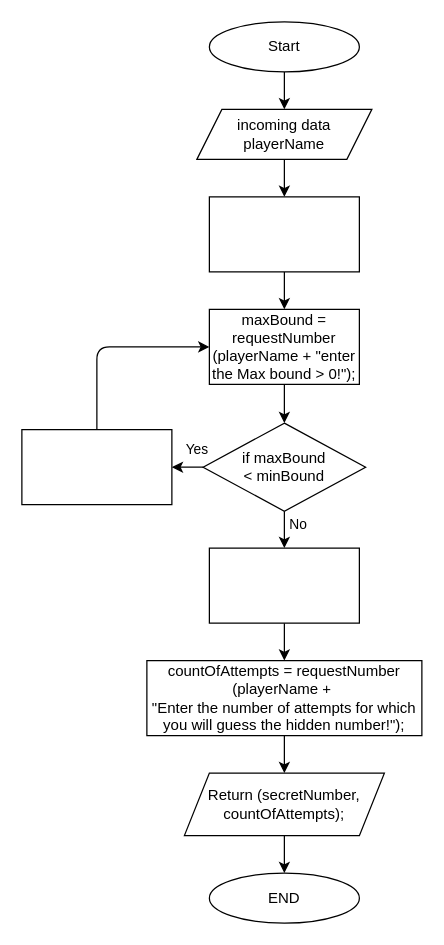
Image size: 444x945. Some labels were removed from this diagram. The centre of each missing label's shape, as x and y in pixels:
MaxBound must be greater than MinBound: (x=96, y=466)
minBound = requestNumber (playerName + "enter the Min bound > 0 '!");: (x=283, y=234)
secretNumber= createNumber (minBound, maxBound) ;: (x=283, y=585)
